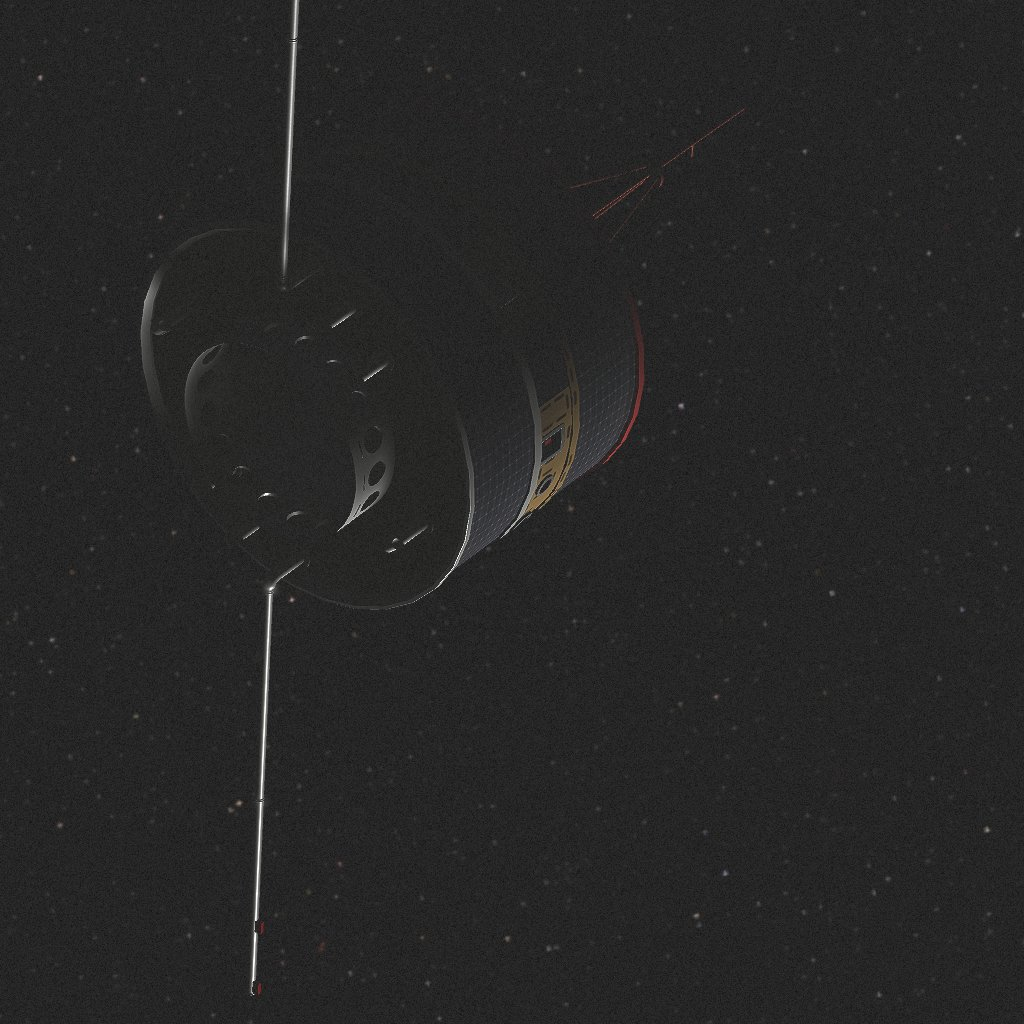double_star: (137, 0, 745, 995)
